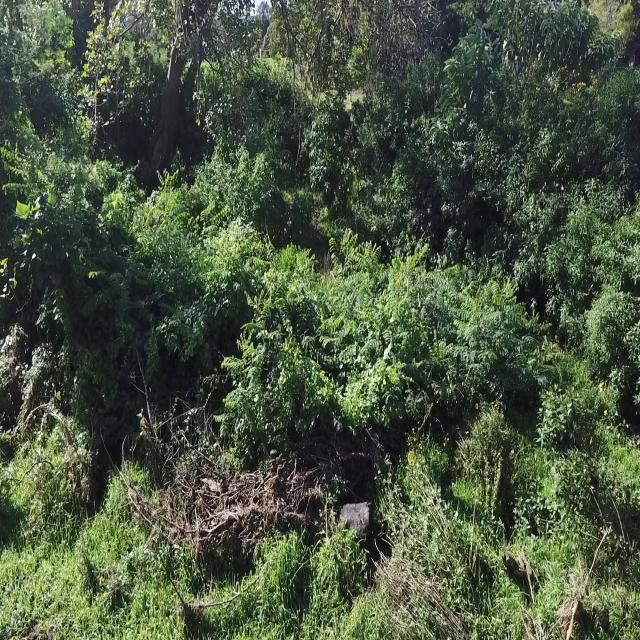Mysore-Thorn-Weed: (132, 163, 193, 298), (276, 288, 331, 424), (363, 294, 447, 370), (452, 304, 542, 374), (214, 332, 266, 440), (312, 312, 390, 381), (193, 227, 265, 288), (336, 350, 389, 432), (422, 256, 468, 323), (350, 238, 392, 310), (388, 238, 430, 306), (462, 260, 520, 304), (327, 224, 362, 296), (237, 278, 272, 339), (199, 190, 231, 236)
